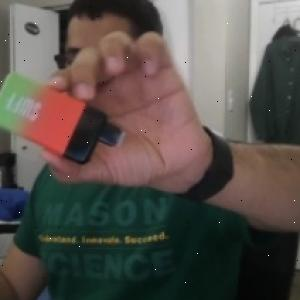Swift-E-Ciggirate: (0, 70, 126, 166)
